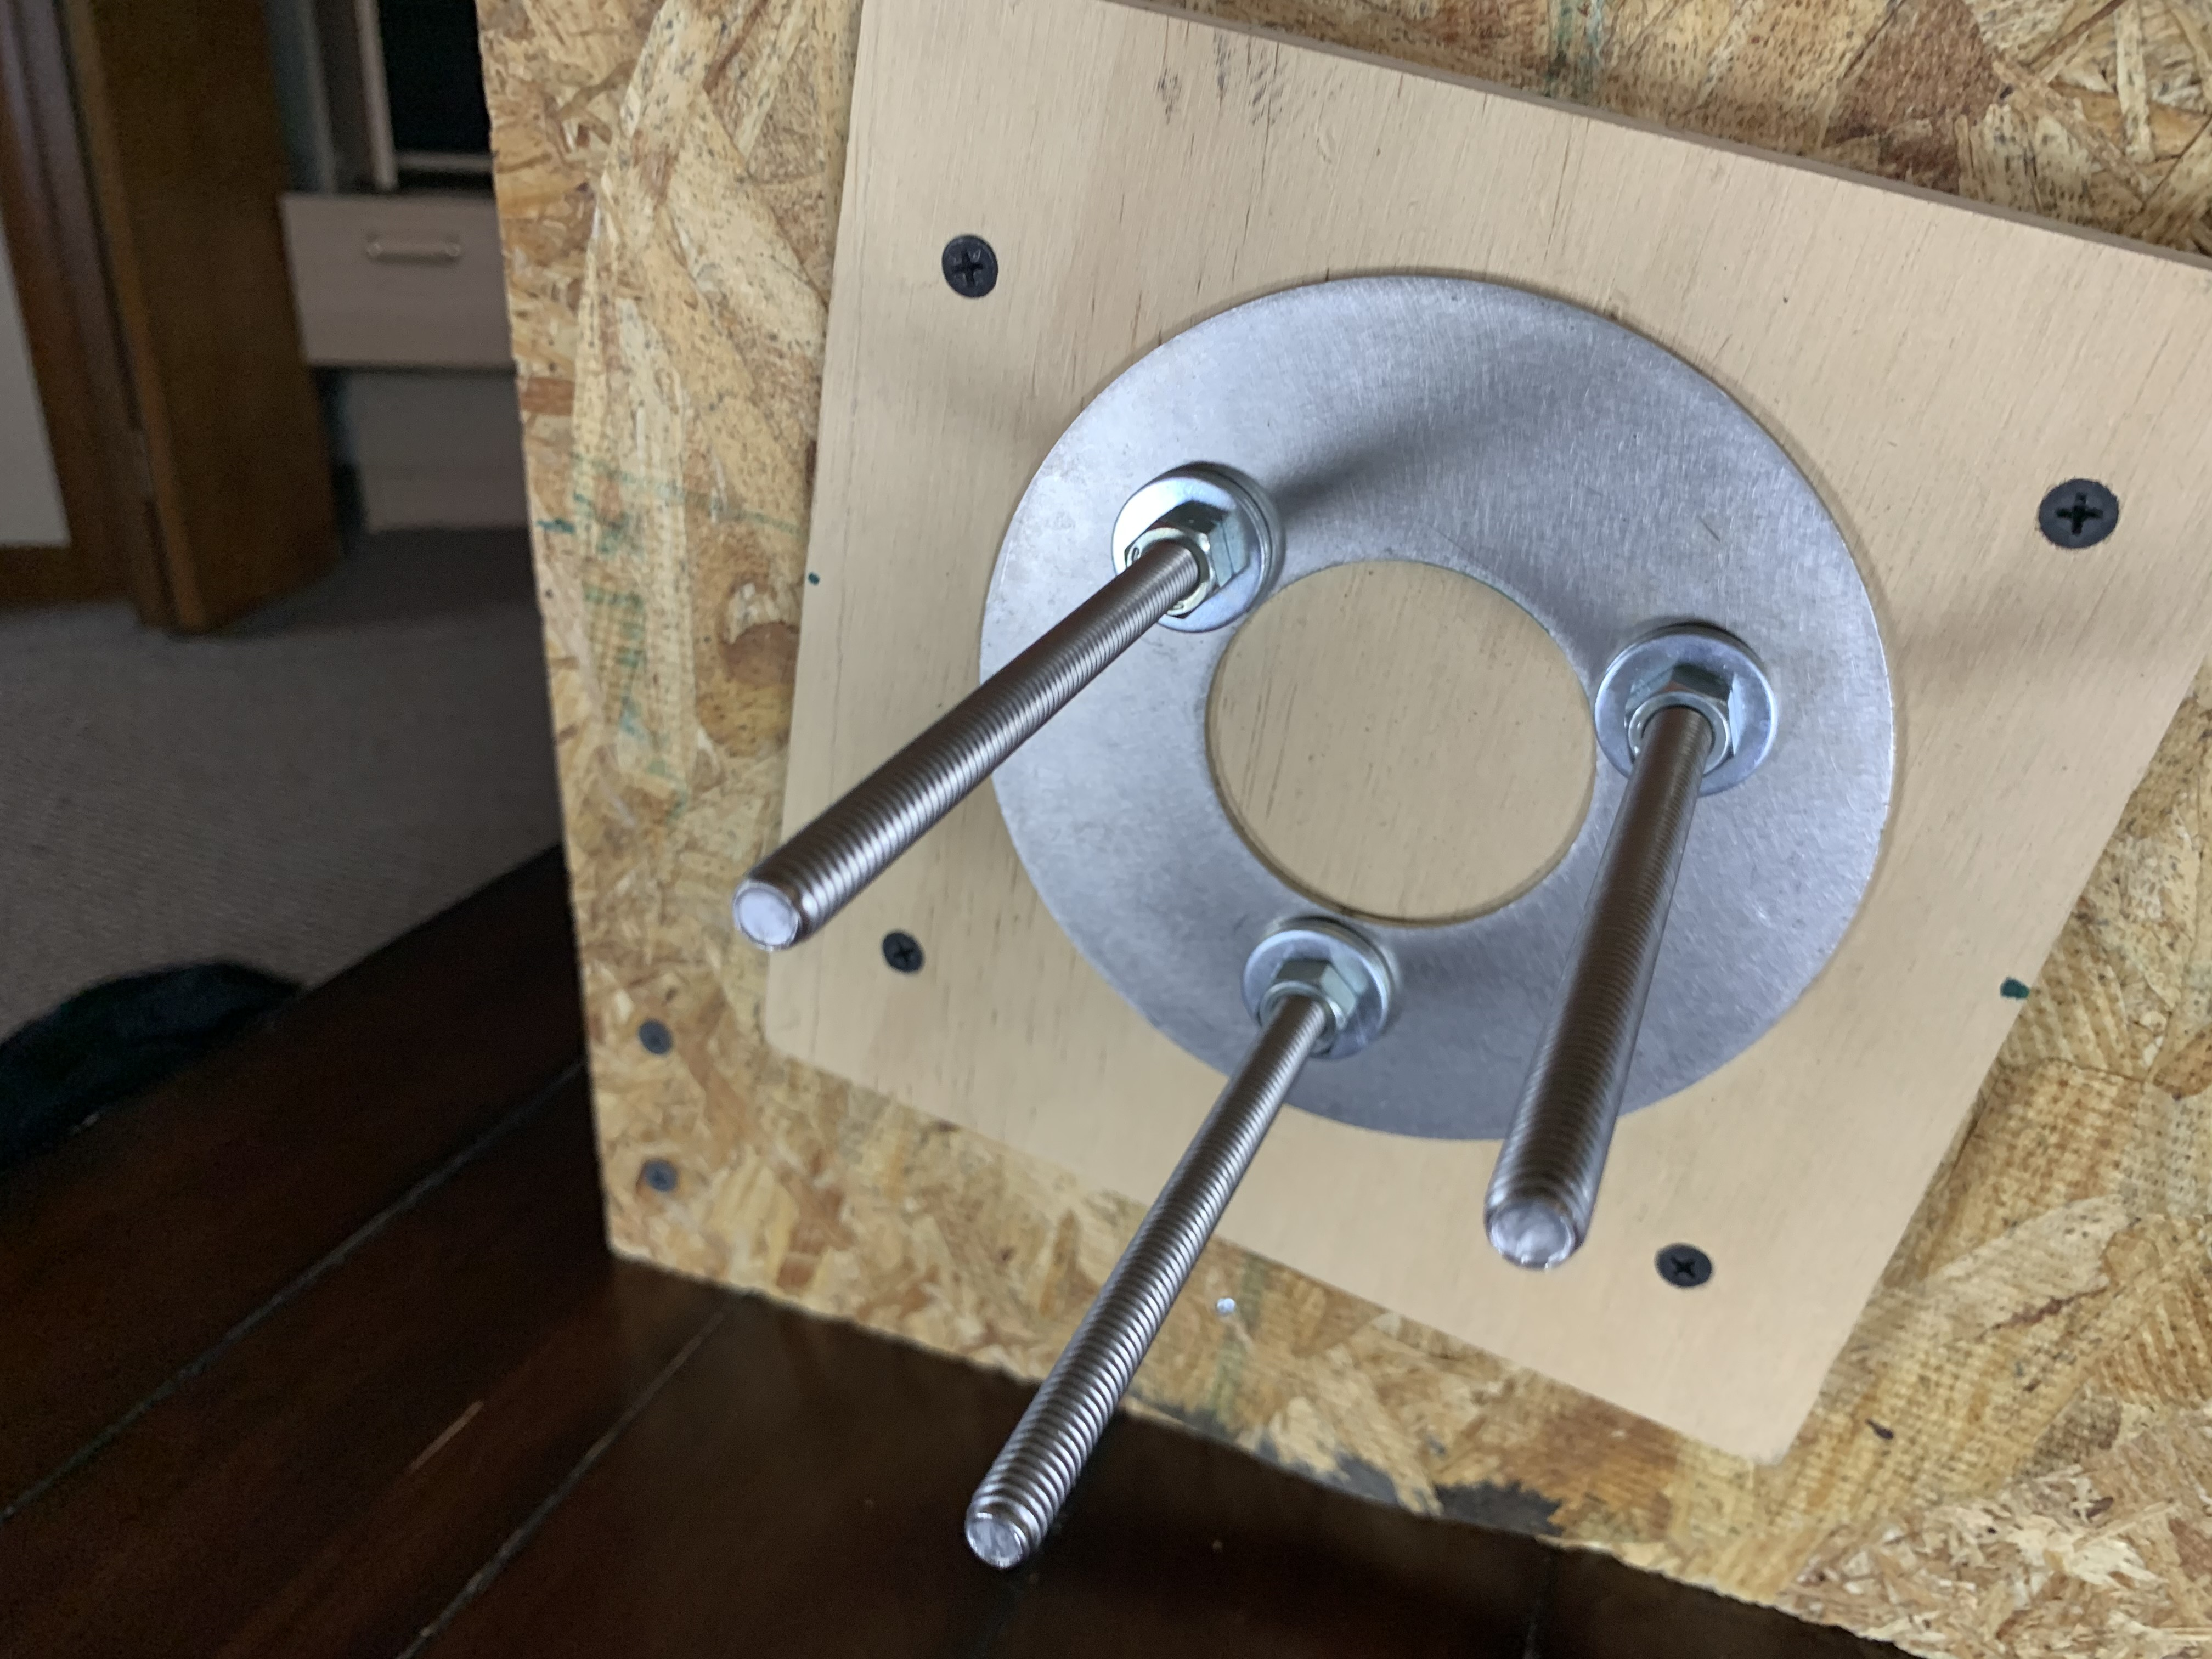bolt: (1594, 624, 1775, 798), (1111, 465, 1285, 634), (1242, 917, 1399, 1065)
